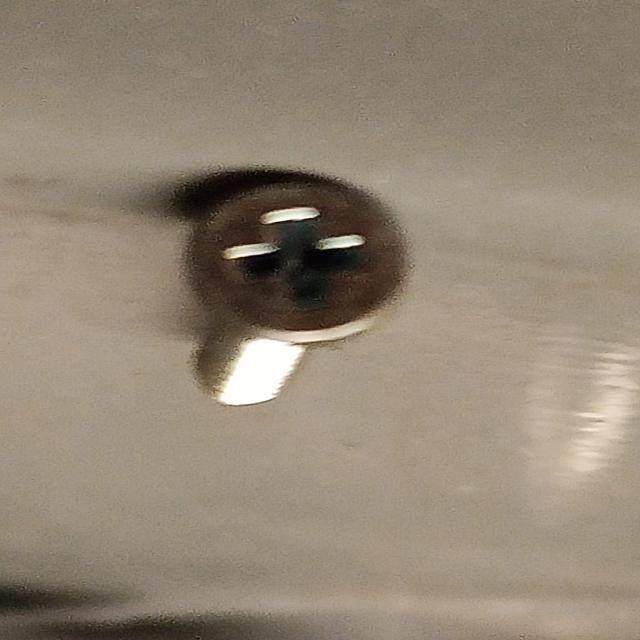phillips: (185, 174, 407, 343)
